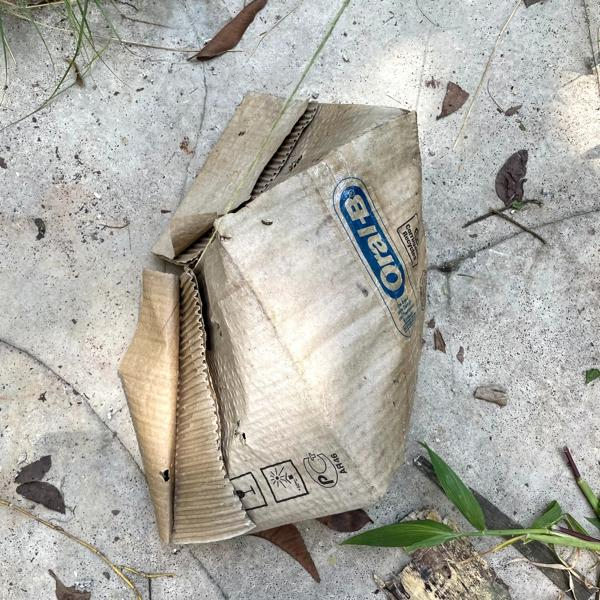Organik: (123, 81, 450, 546)
